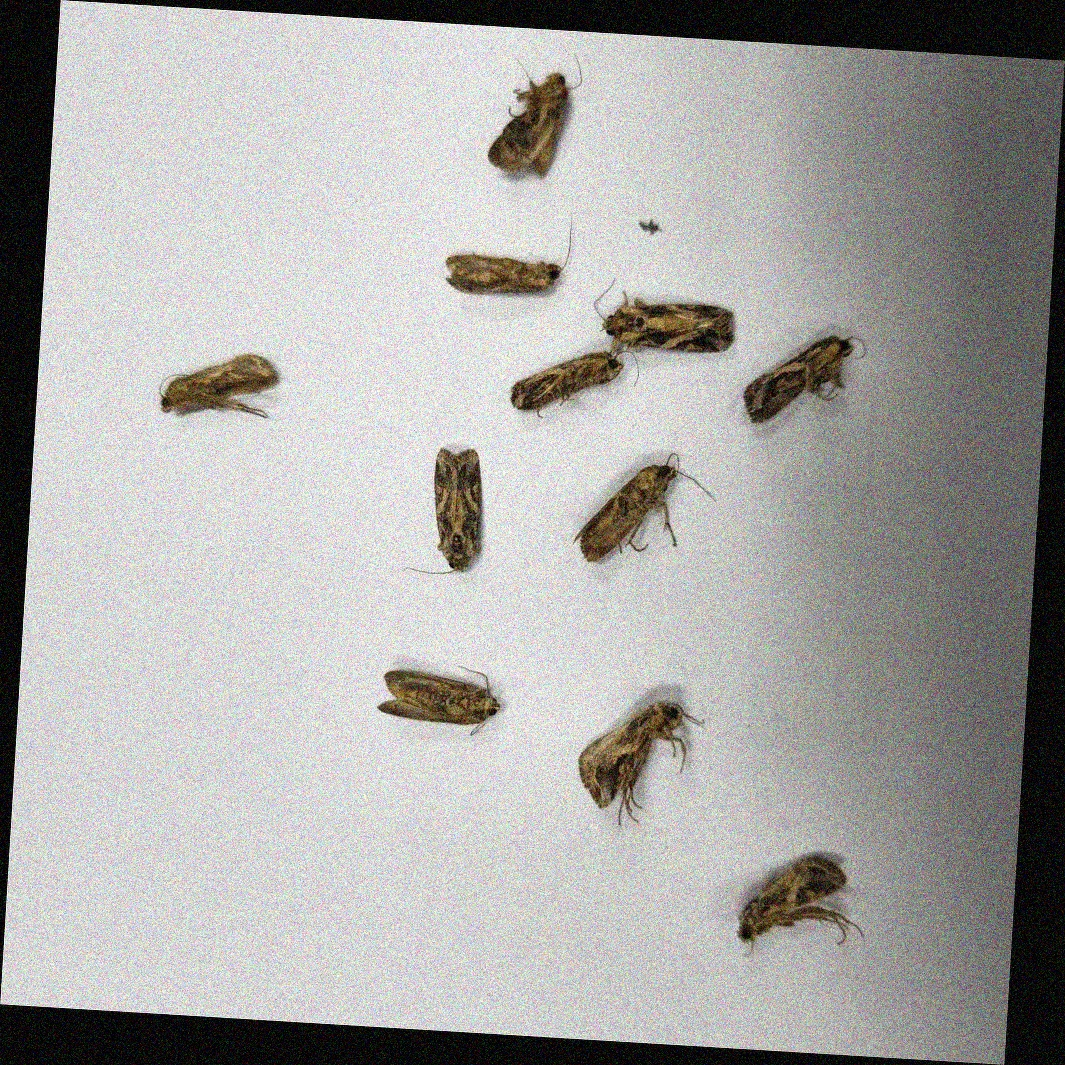Spodoptera litura: (575, 449, 714, 565), (577, 700, 703, 827), (738, 855, 866, 960), (489, 50, 581, 180), (744, 333, 865, 428), (592, 279, 737, 356), (445, 212, 571, 296), (405, 446, 483, 575), (510, 346, 639, 421), (376, 663, 501, 735), (158, 352, 279, 416)
